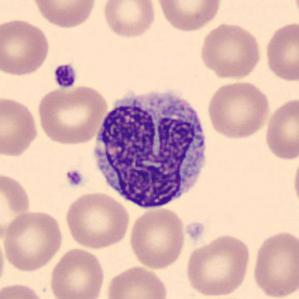Monocyte: (88, 82, 214, 215)
Platelets: (51, 62, 78, 90), (63, 166, 86, 190)
RBC: (35, 83, 109, 147), (183, 231, 252, 298), (0, 210, 64, 275), (63, 190, 131, 251), (205, 79, 271, 140), (127, 205, 188, 270), (197, 20, 263, 80), (250, 228, 298, 299), (48, 246, 106, 299), (0, 17, 51, 77), (0, 94, 41, 158), (0, 169, 33, 243), (262, 96, 298, 162), (100, 0, 158, 40), (154, 0, 224, 33), (104, 264, 170, 299), (262, 20, 298, 82), (29, 0, 98, 29), (0, 281, 47, 299), (291, 150, 299, 212)
